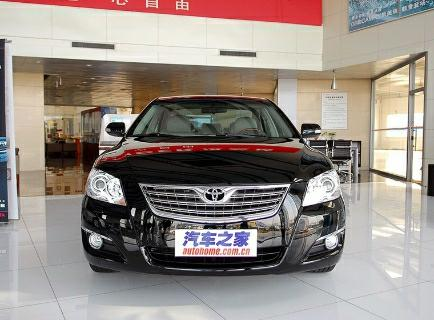car: (76, 91, 359, 284)
